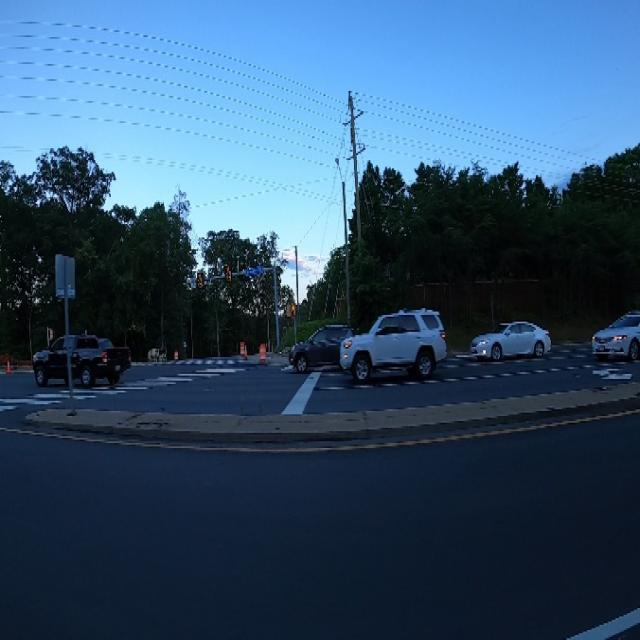cars: (339, 297, 445, 397), (30, 324, 134, 392), (287, 318, 363, 381), (468, 318, 556, 362), (590, 306, 640, 374), (89, 334, 118, 360)
